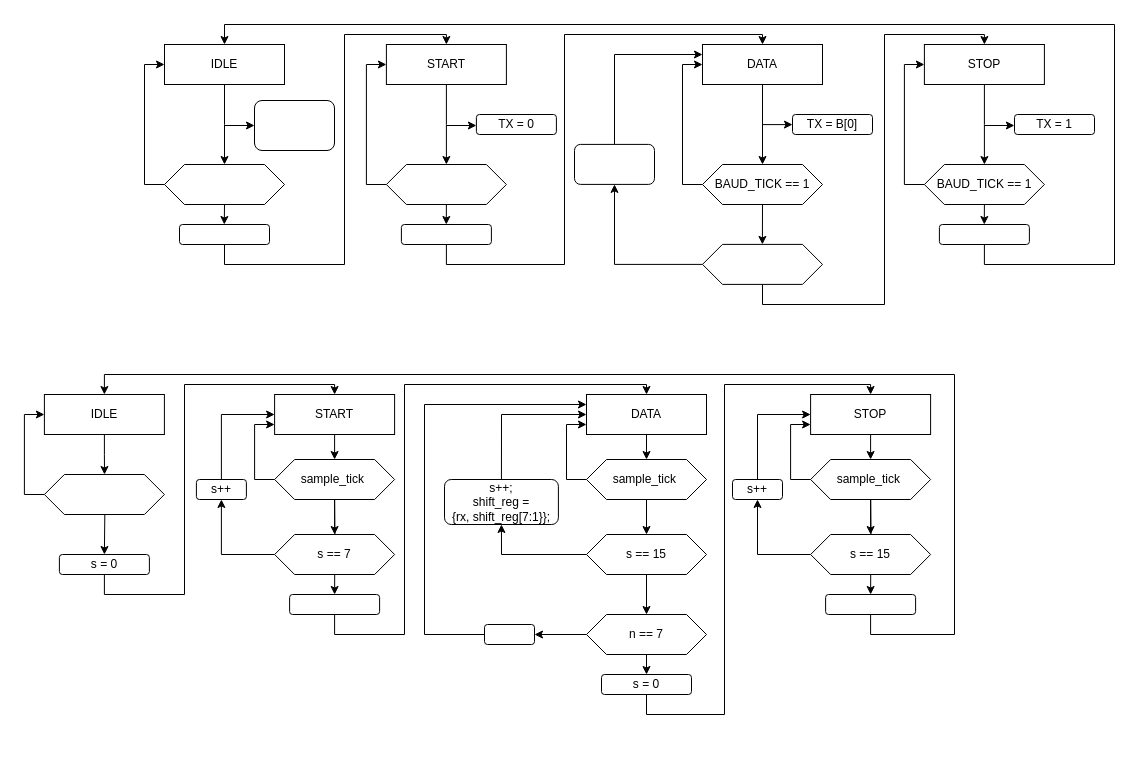
The diagram is 1141 pixels wide and 770 high, and some of its shapes have lost their labels. Here are the shapes that lost their labels. From the top down, the centre of each, then its label:
At [294,125]: "TX = 1 TX_DONE = 0 B <- DATA_IN".
At [614,163]: "BITS_CNT++ B = B >> 1".
At [224,184]: "TX_START == 1".
At [445,184]: "BAUD_TICK==1".
At [224,234]: "BAUD_RST =1".
At [445,234]: "BITS_CNT = 0".
At [983,234]: "TX_DONE=1".
At [762,263]: "BITS_CNT == DATA_BITS - 1".
At [103,494]: "rx == 0".
At [334,604]: "s = 0; n = 0".
At [870,604]: "rx_done = 1".
At [509,634]: "n++".
